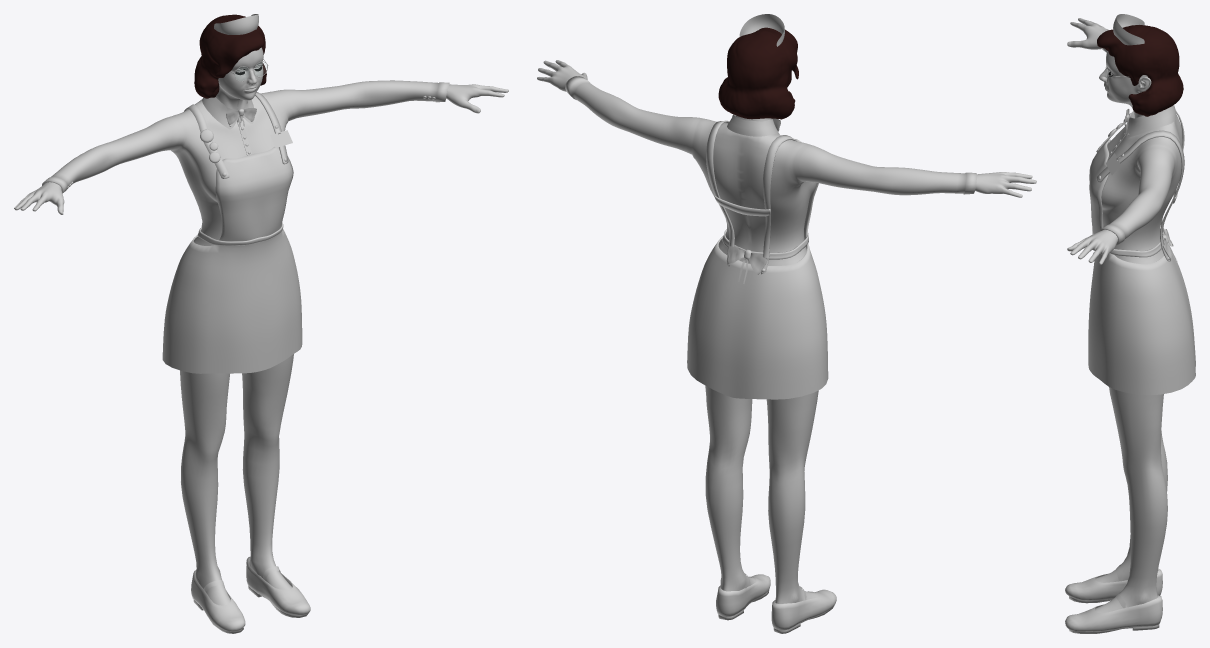
The model's file is Pharmacist_Mixamo.fbx.
The picture shows the model from 3 angles, left to right: view 1: azimuth 30°, elevation 25°; view 2: azimuth 150°, elevation 25°; view 3: azimuth 270°, elevation 25°; orthographic projection.
Parts seen in each view (by area): view 1: Legs_LP, Nurse_Hat_LP, Head_LP; view 2: Legs_LP, Nurse_Hat_LP; view 3: Legs_LP, Nurse_Hat_LP, Head_LP.
Part boxes in pixels (<box>): Legs_LP: <box>14,80,508,633</box>; Nurse_Hat_LP: <box>194,14,268,98</box>; Head_LP: <box>216,47,263,110</box>; Legs_LP: <box>537,60,1036,633</box>; Nurse_Hat_LP: <box>718,14,798,119</box>; Legs_LP: <box>1065,18,1195,633</box>; Nurse_Hat_LP: <box>1097,14,1183,116</box>; Head_LP: <box>1099,50,1166,117</box>.
Size of the model in its own units: 149 by 172 by 34.23.
